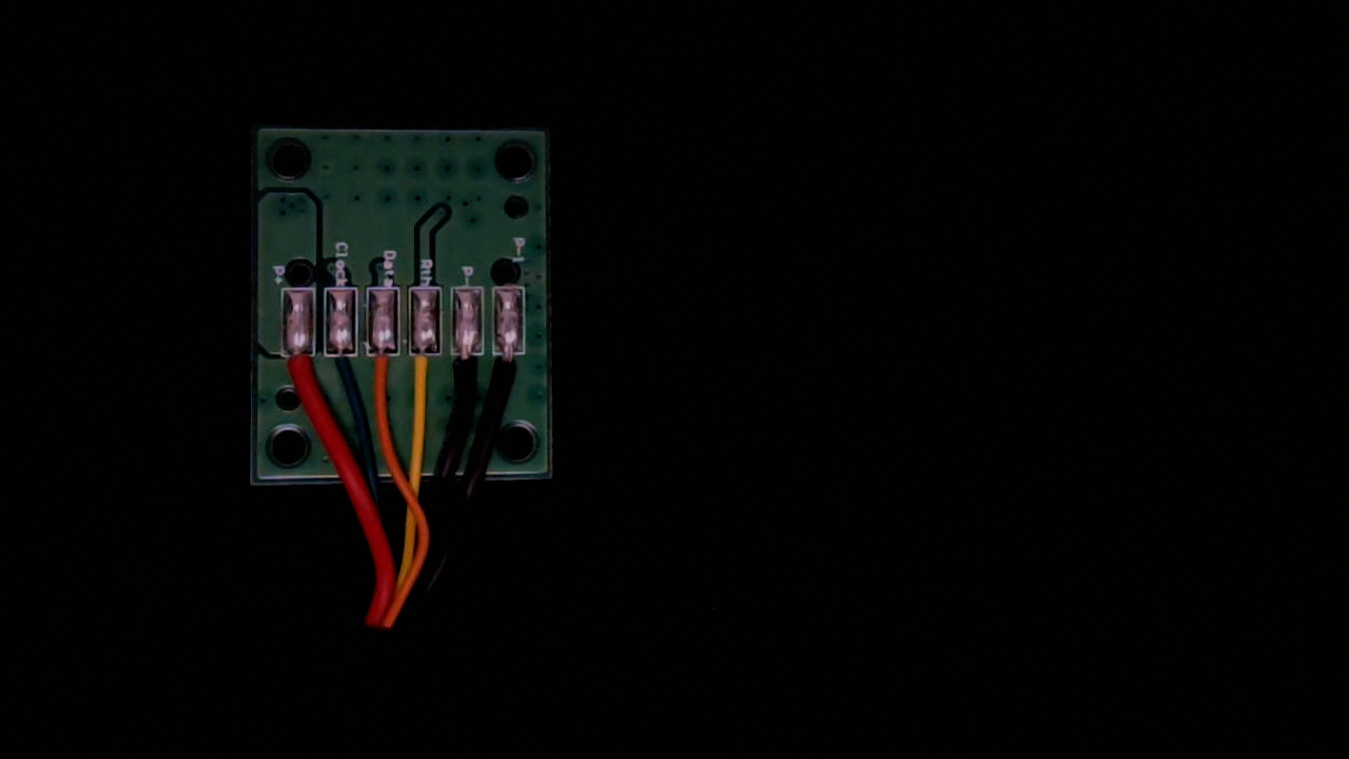Black: (447, 335, 485, 414)
Black1: (493, 333, 529, 405)
Green: (322, 330, 359, 396)
Orange: (365, 331, 400, 409)
Red: (281, 333, 319, 409)
Yellow: (409, 334, 446, 413)
